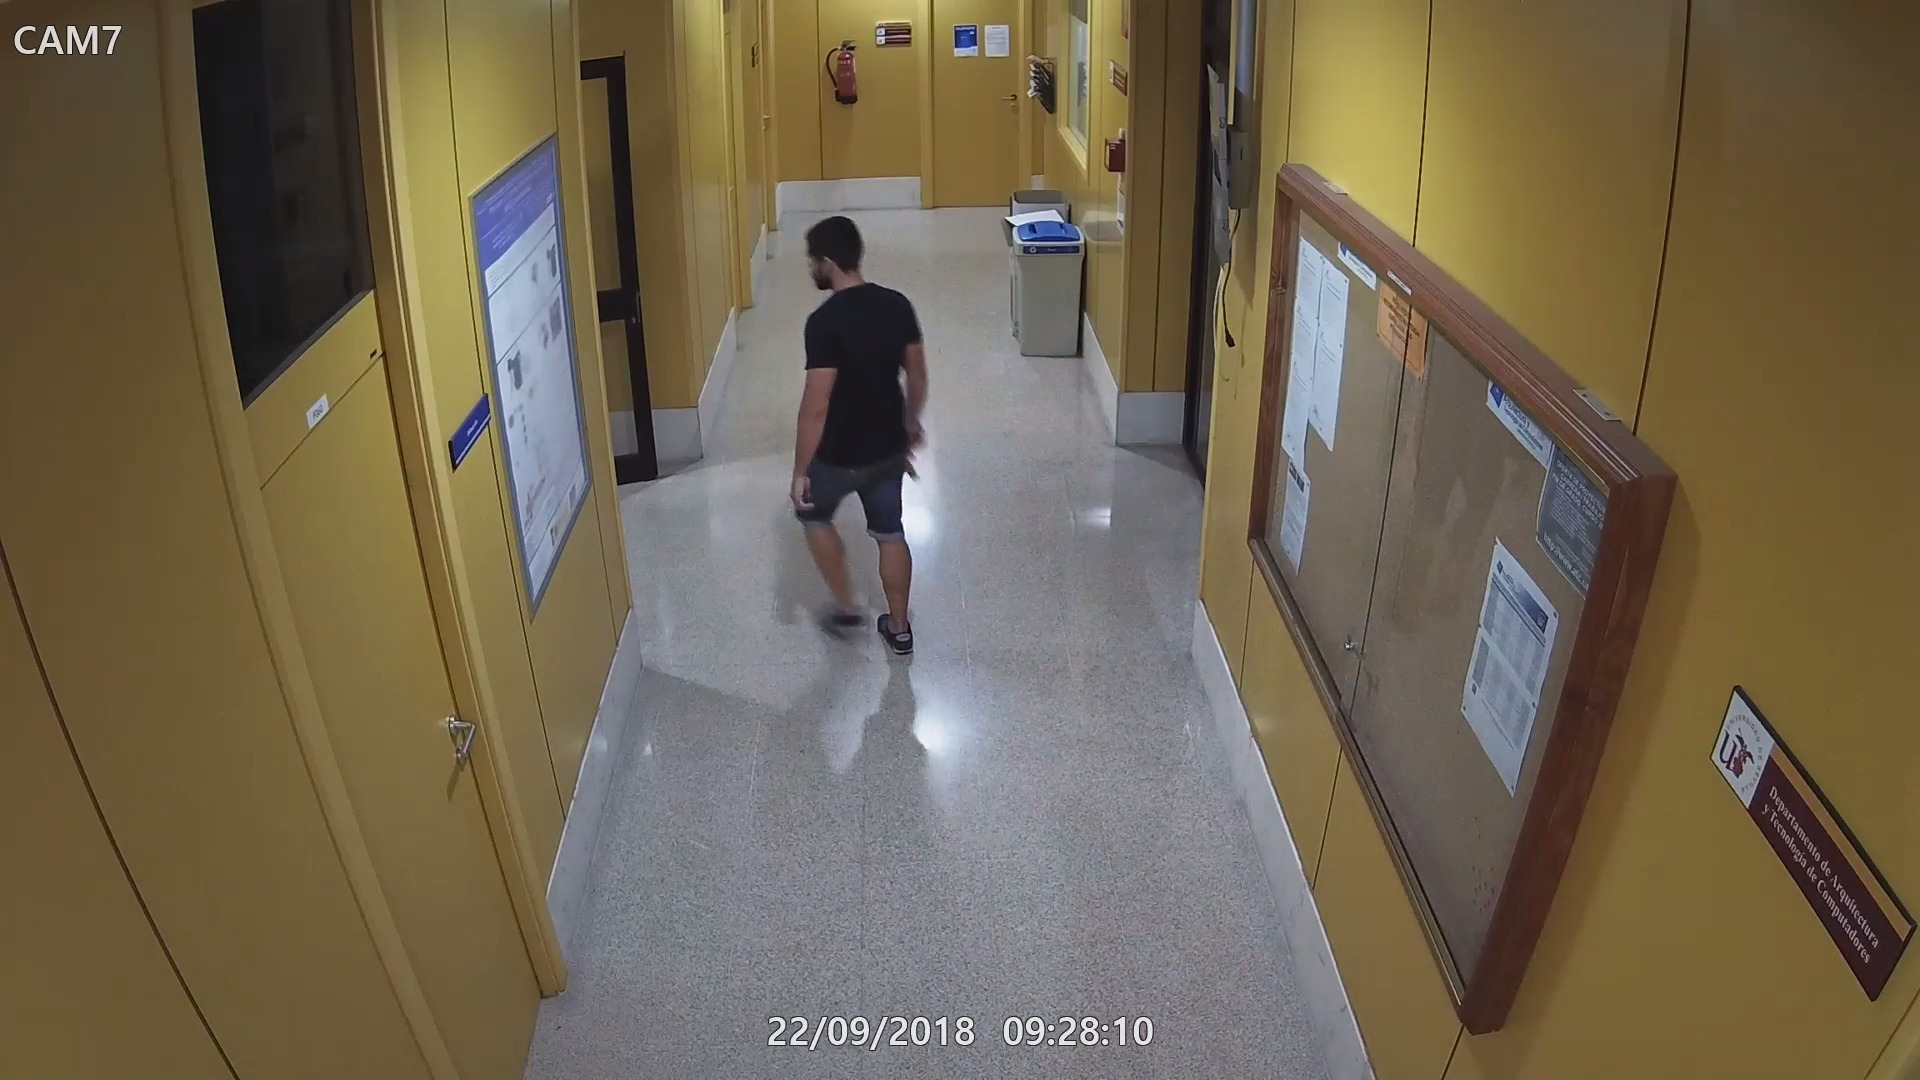Handgun: (902, 434, 934, 479)
